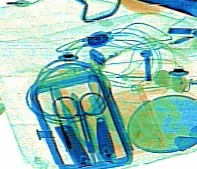scissors: (52, 91, 106, 165)
